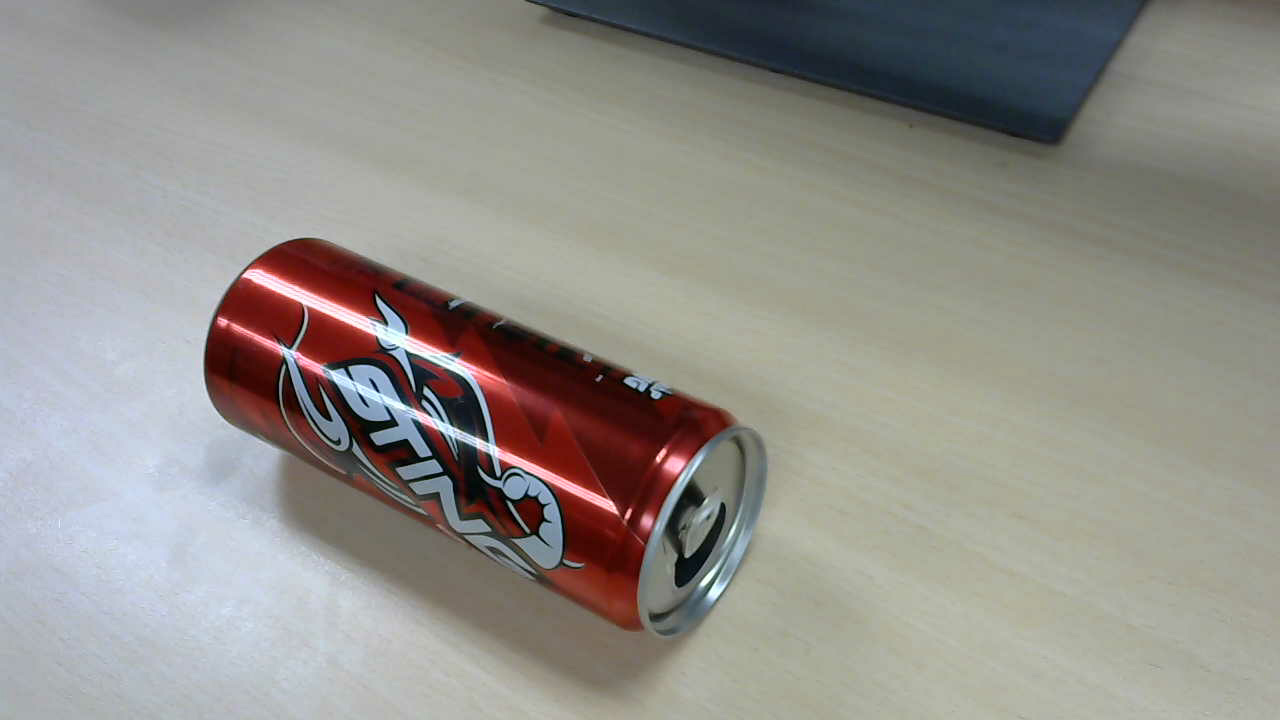Sting: (177, 216, 790, 659)
